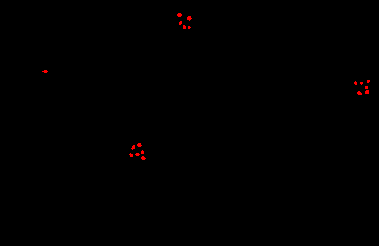Target: (187, 16, 192, 21), (177, 13, 182, 17), (357, 91, 362, 95), (137, 143, 142, 147), (131, 145, 135, 150), (141, 156, 146, 160), (42, 70, 48, 73), (365, 90, 369, 94), (129, 153, 133, 157), (135, 153, 140, 156), (179, 21, 182, 25), (183, 25, 186, 29), (354, 81, 357, 85), (141, 150, 144, 154), (188, 26, 191, 29), (367, 80, 370, 83), (360, 82, 363, 85), (365, 86, 368, 89)
